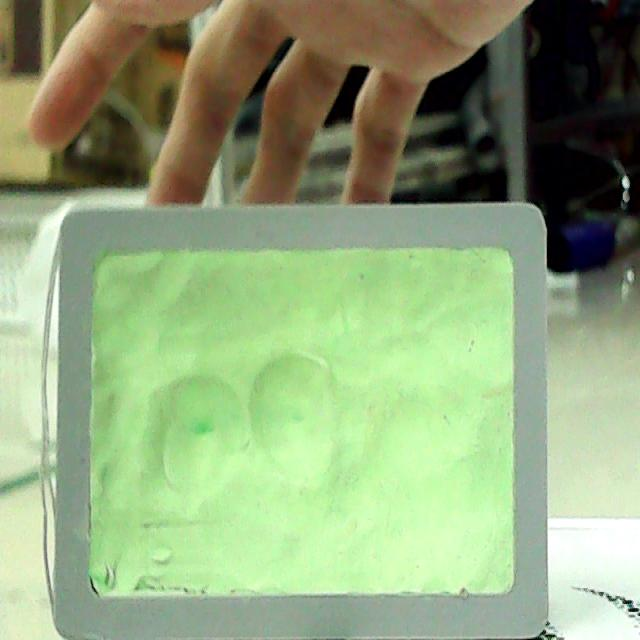block: (41, 198, 547, 640)
